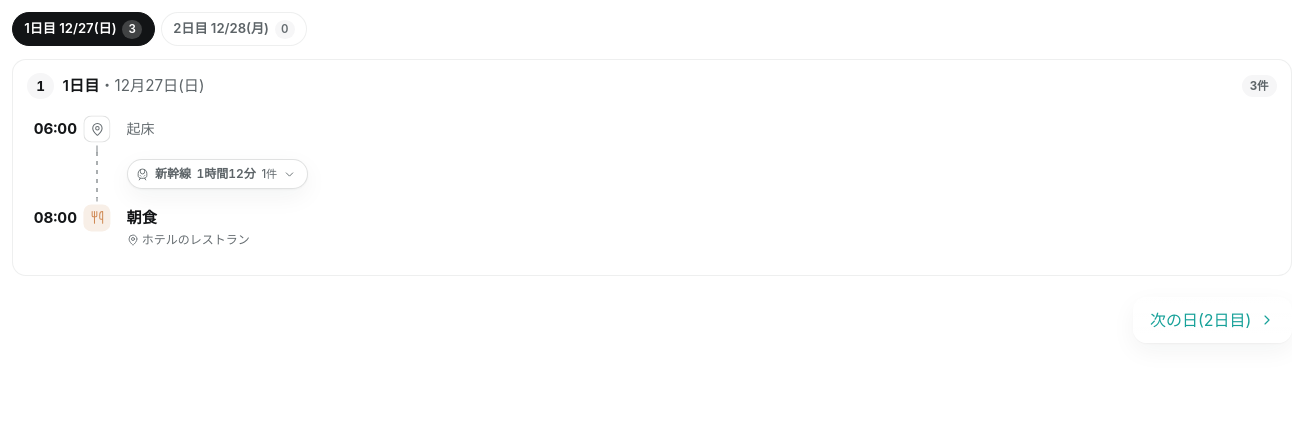
旅行の日程の時間軸 › 移動のアイコンは移動手段の絵(手段が無ければ電車)。「起床」「準備」のような生活の区切りは小さく出す
// 移動は「つなぎ」の札に畳んであるので、開いてから1件の行を見る。
Click the button "新幹線 1時間12分 1件": (217, 174) [127,159,308,189]
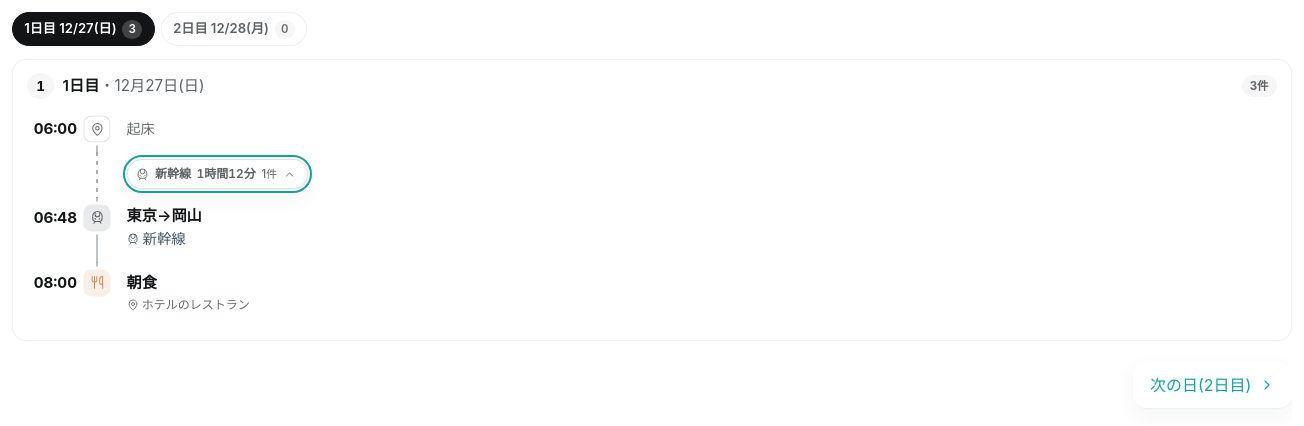
Expected: the picture named "その他" is shown, [83,115,111,143]
Now the picture named "移動" is shown, box [83,204,111,231]
